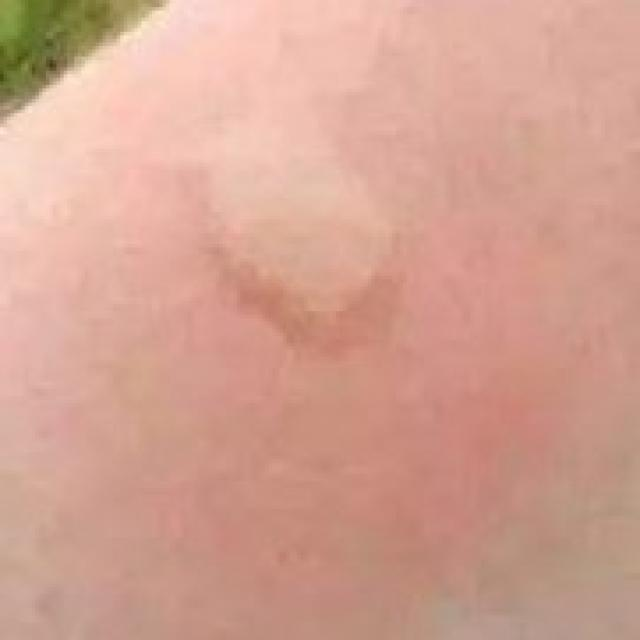sinek: (129, 99, 456, 380)
